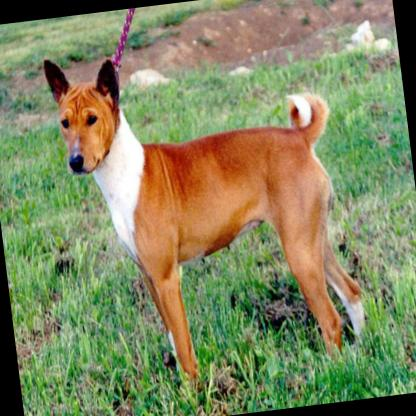basenji: (40, 20, 370, 393)
